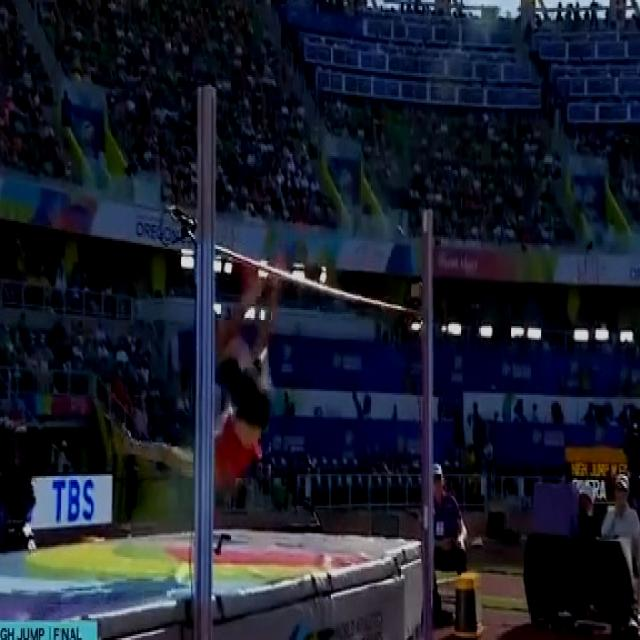land: (112, 250, 282, 492)
